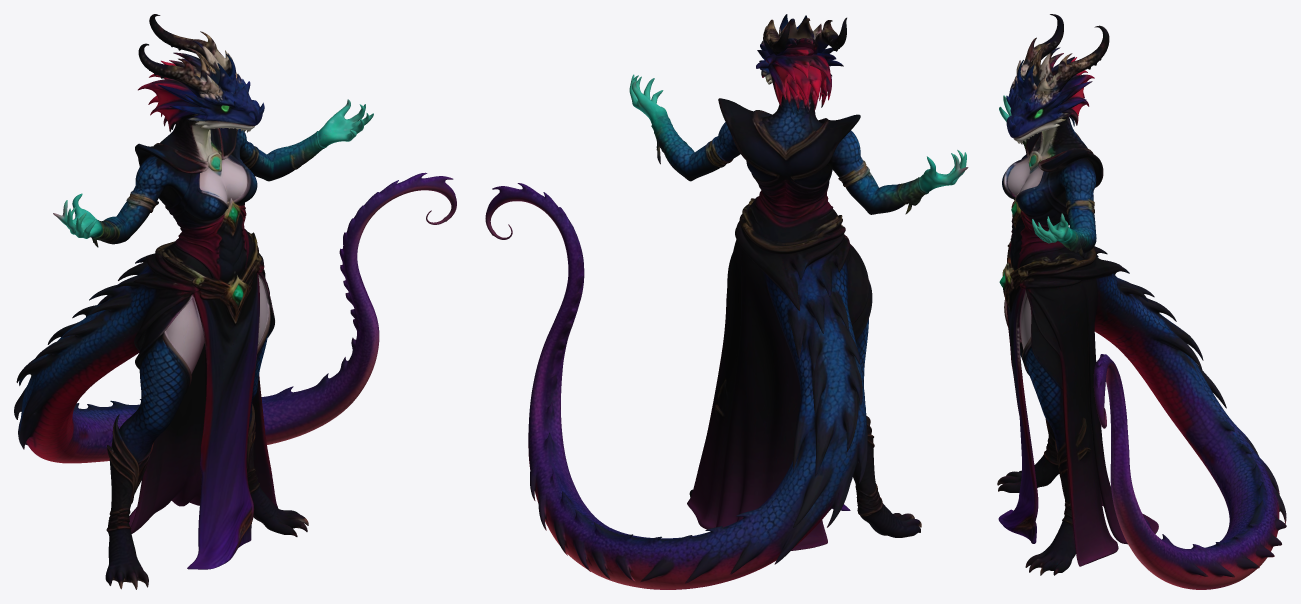
The model's file is dragonborn_warlock_full_female_01.glb.
The picture shows the model from 3 angles, left to right: view 1: azimuth 30°, elevation 25°; view 2: azimuth 150°, elevation 25°; view 3: azimuth 270°, elevation 25°; orthographic projection. The views are drawn at different scales.
Visible parts, largest first — view 1: material; view 2: material; view 3: material.
Boxes of the visible parts, x1,y1,x2,y2 form: material: [14, 14, 456, 589]; material: [485, 14, 968, 589]; material: [997, 14, 1286, 589].
Size of the model in its own units: 0.8309 by 0.9307 by 0.4934.
1 material, 1 textured.
